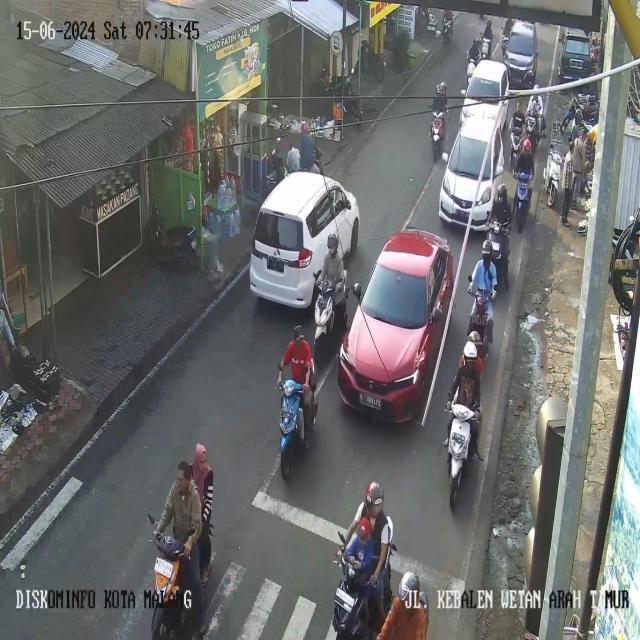Helmet: (399, 572, 419, 600), (365, 481, 384, 506), (357, 517, 371, 537), (463, 341, 477, 359), (327, 234, 338, 252), (468, 331, 482, 345), (587, 124, 597, 143), (482, 239, 491, 256), (497, 184, 507, 199), (294, 325, 303, 339), (522, 138, 531, 152), (574, 108, 582, 123), (436, 82, 446, 94), (473, 37, 480, 46), (486, 19, 491, 25), (534, 84, 538, 90)
Number Plate: (154, 557, 172, 578), (359, 393, 381, 410), (336, 588, 355, 606), (267, 256, 283, 272), (570, 59, 582, 68), (492, 242, 499, 251)
Rearview Mirror: (420, 591, 428, 616), (431, 307, 442, 322), (352, 282, 361, 300), (338, 532, 345, 543), (344, 199, 351, 209), (496, 165, 503, 174), (442, 152, 448, 161), (460, 89, 466, 96), (467, 275, 471, 282)
